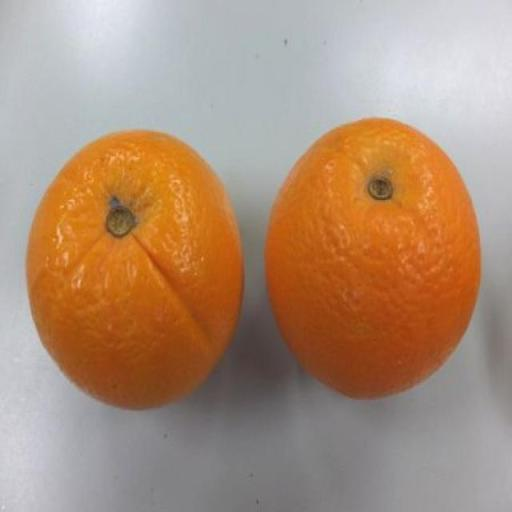fruit: (27, 132, 243, 407), (266, 120, 479, 397)
